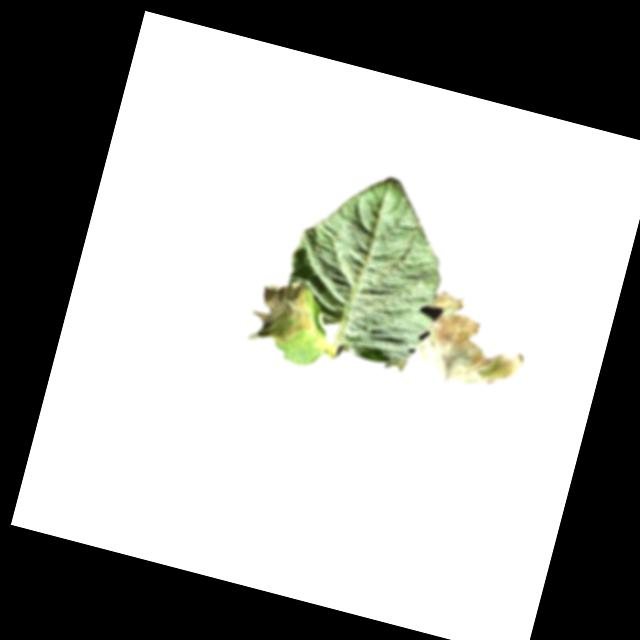Late_blight: (409, 288, 536, 402), (246, 273, 321, 354)
healthy: (270, 157, 464, 373)
